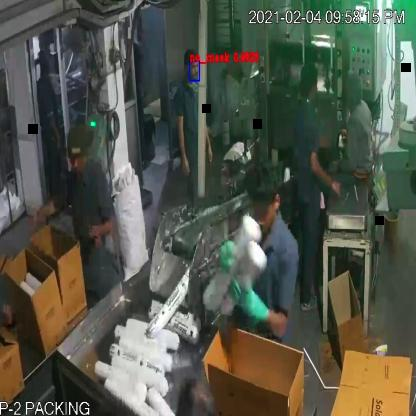glove: (227, 276, 278, 335), (212, 238, 248, 286)
no_glove: (308, 142, 349, 206), (168, 92, 194, 190), (68, 204, 118, 250), (33, 201, 71, 231), (197, 104, 213, 170), (49, 102, 63, 154)
